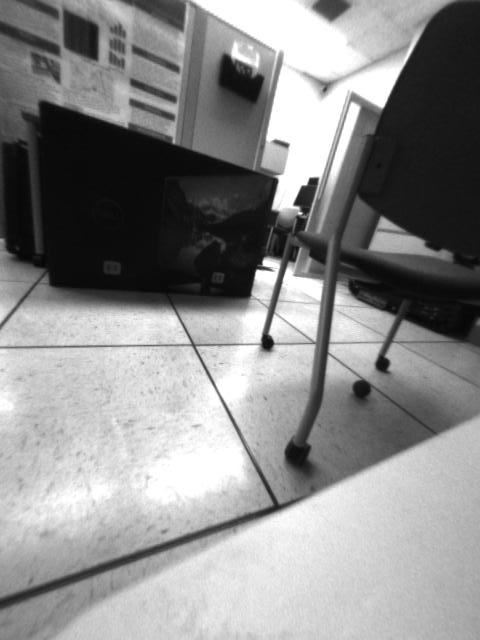dogtoy: (342, 374, 379, 408)
